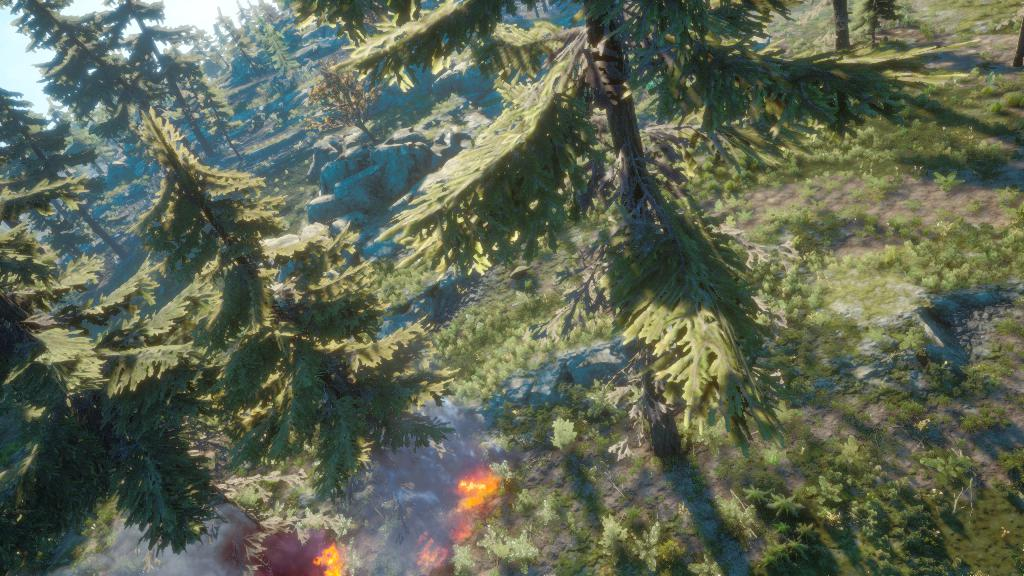Fire: (428, 462, 509, 537), (300, 538, 355, 575)
